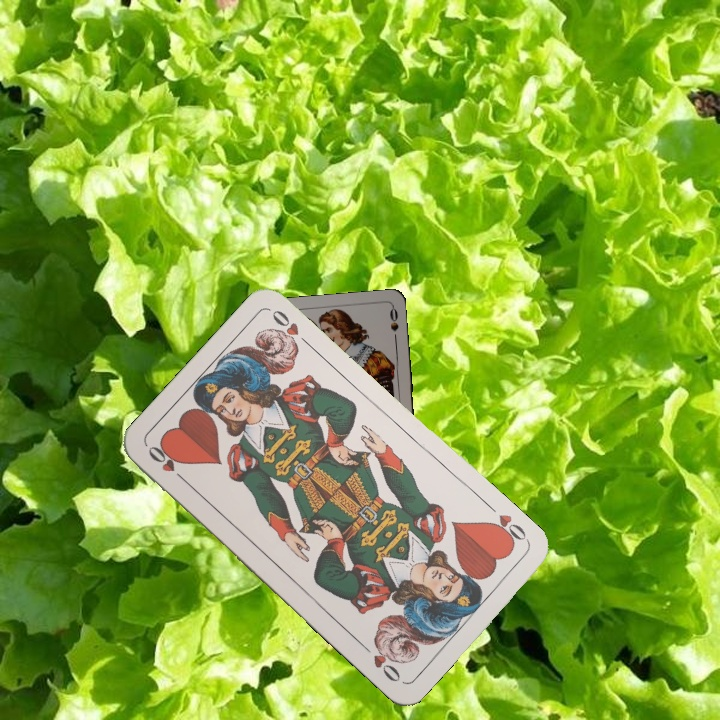HO: (143, 441, 191, 487), (483, 510, 532, 549)
